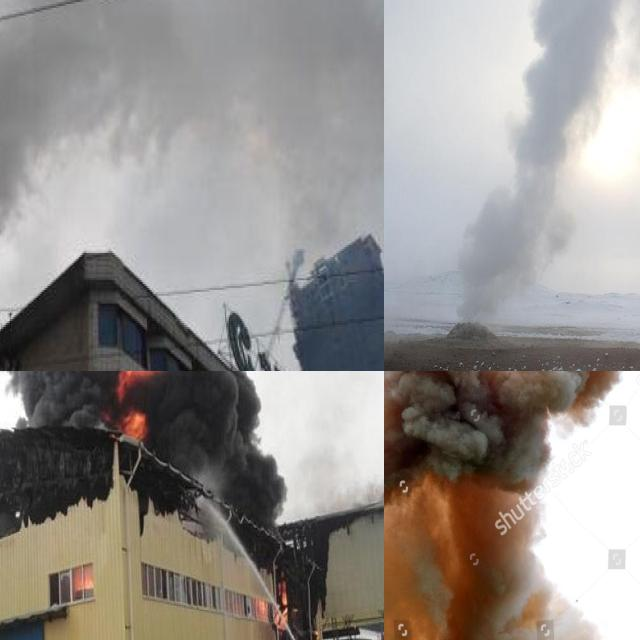fire: (114, 371, 156, 431), (276, 582, 289, 623)
smoke: (0, 0, 384, 343), (384, 371, 626, 640), (461, 0, 640, 304), (0, 371, 286, 521)
